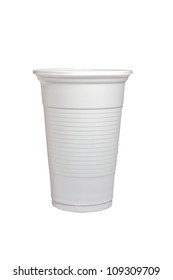plastic_glass: (29, 63, 143, 219)
